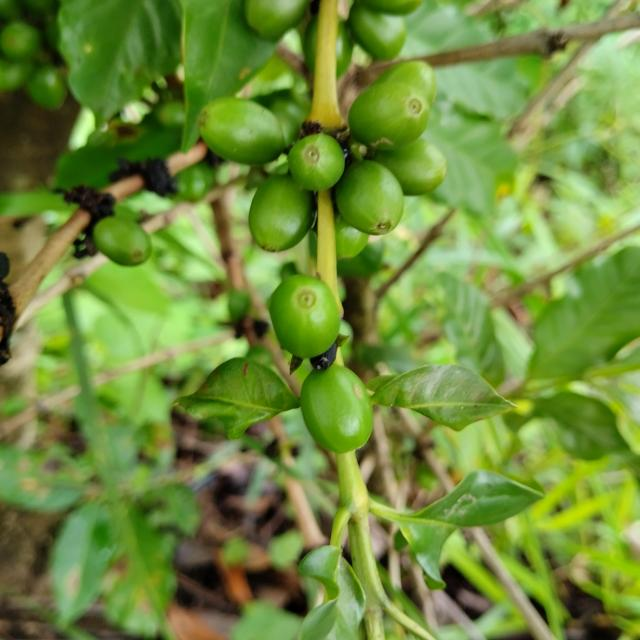green: (300, 364, 373, 454), (269, 274, 341, 358), (198, 96, 285, 164), (349, 81, 431, 149), (248, 174, 315, 252), (335, 160, 404, 235), (373, 138, 448, 195), (288, 132, 345, 190), (375, 60, 437, 104), (335, 214, 369, 259)
